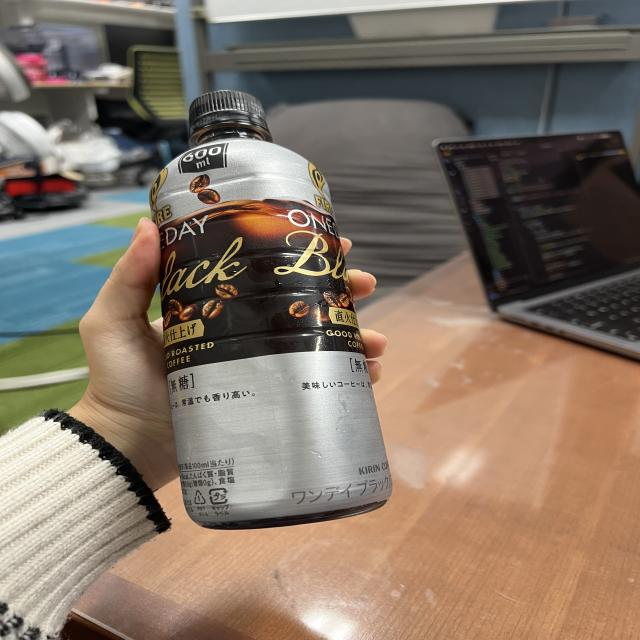coffee-black: (155, 85, 392, 530)
